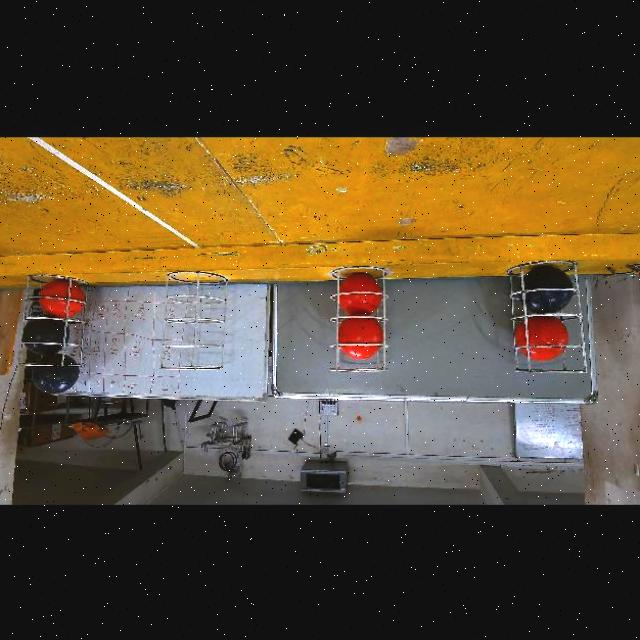P: (520, 266, 575, 312), (31, 353, 80, 395), (22, 318, 71, 355)
R: (516, 316, 569, 362), (339, 272, 383, 314), (339, 318, 384, 359), (39, 280, 85, 318)
S: (508, 259, 582, 379), (19, 274, 86, 378), (326, 270, 386, 378), (162, 268, 222, 374)
